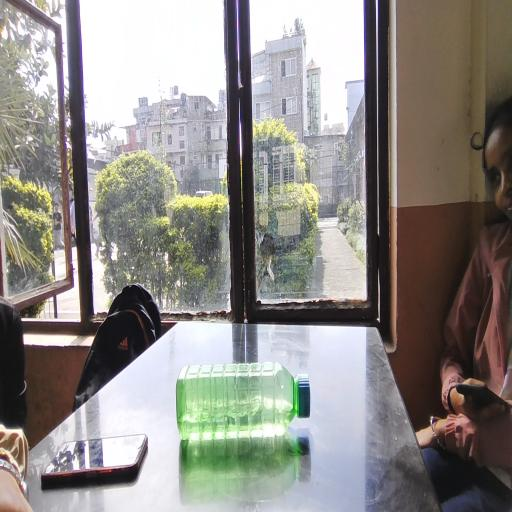Bottle: (162, 354, 324, 451)
